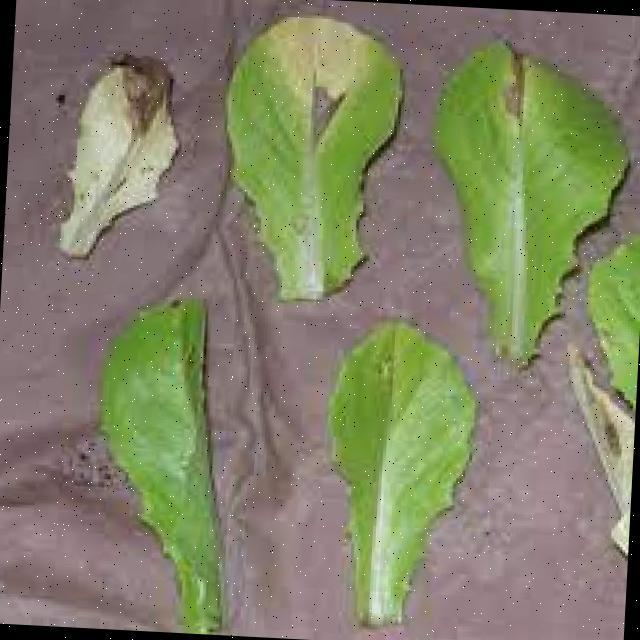Downy_mildew_on_lettuce: (52, 64, 170, 259), (257, 40, 365, 186)
